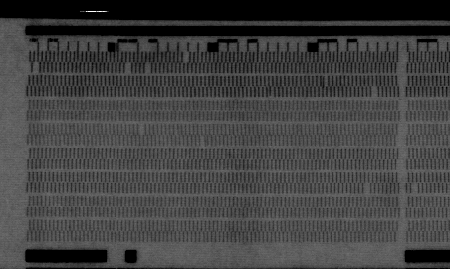Broken hole: (136, 122, 148, 137), (141, 62, 154, 75), (361, 183, 373, 196), (121, 62, 133, 75), (30, 62, 42, 75), (409, 184, 422, 195), (370, 85, 380, 99), (180, 53, 192, 64)
Oblique printing: (265, 86, 279, 100), (197, 134, 210, 149), (319, 74, 331, 87)
